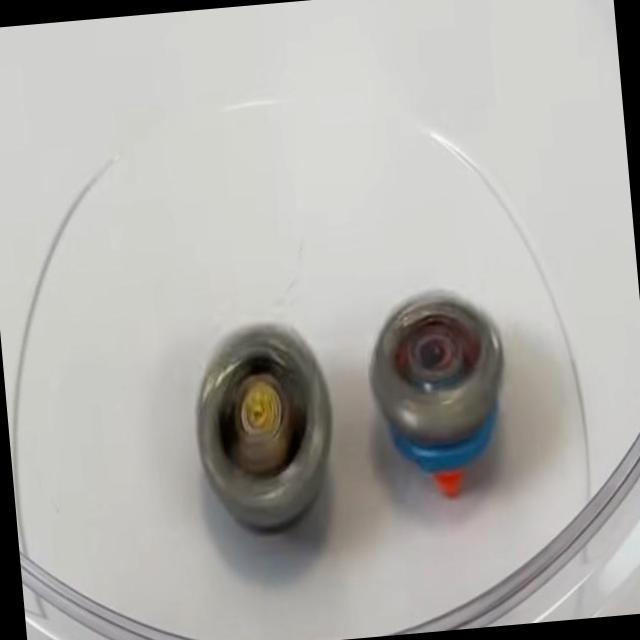Beyblade: (360, 284, 514, 506), (187, 317, 340, 540)
